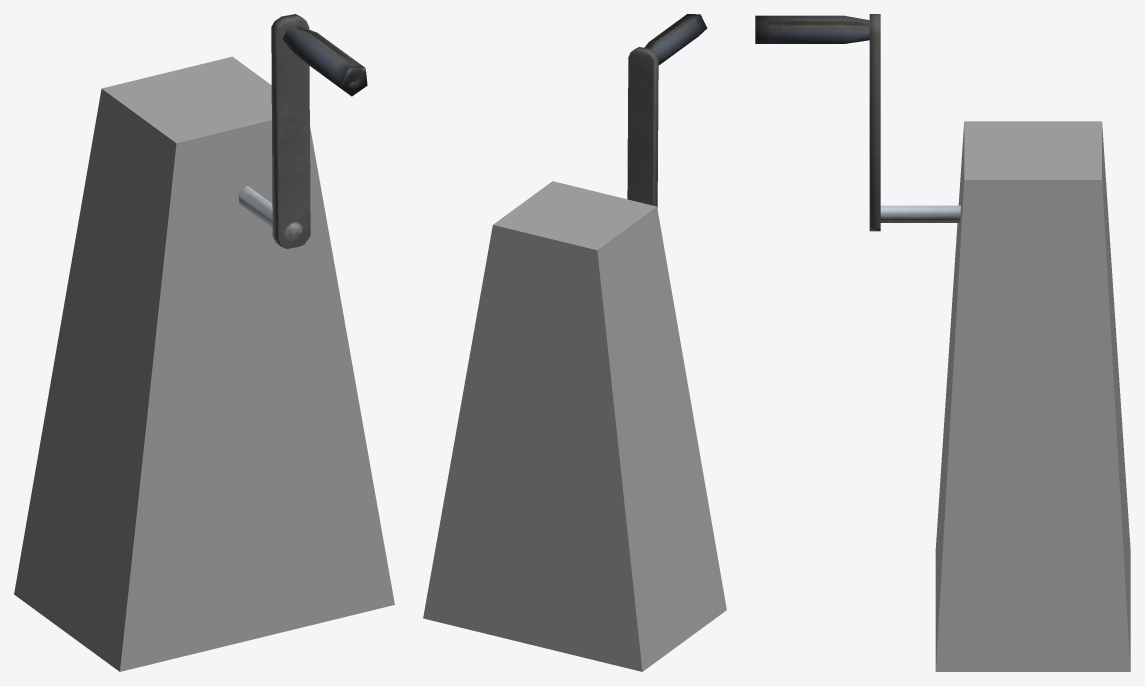
The model's file is Crank.fbx.
The picture shows the model from 3 angles, left to right: view 1: azimuth 30°, elevation 25°; view 2: azimuth 150°, elevation 25°; view 3: azimuth 270°, elevation 25°; orthographic projection. The views are drawn at different scales.
Visible parts, largest first — view 1: Foundation, Crank; view 2: Foundation, Crank; view 3: Foundation, Crank.
Part boxes in pixels (left/top/right/bottom): Foundation: left=14, top=56, right=394, bottom=671; Crank: left=238, top=14, right=367, bottom=248; Foundation: left=423, top=181, right=726, bottom=671; Crank: left=627, top=14, right=707, bottom=208; Foundation: left=935, top=121, right=1130, bottom=671; Crank: left=755, top=14, right=960, bottom=231.
Bounding box in the file's own units: 1.2 × 2.69 × 1.54.
